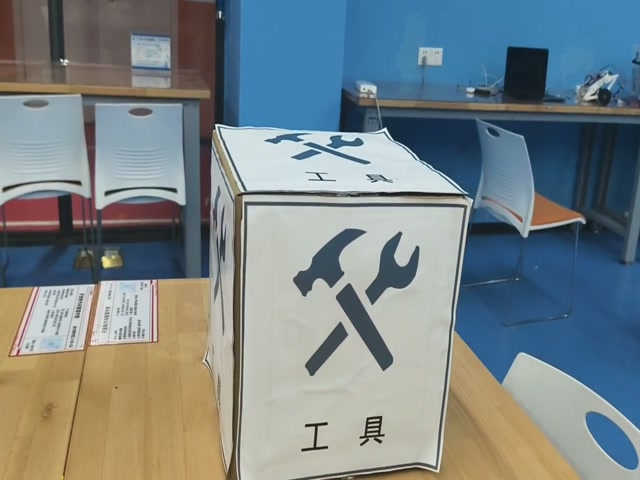Cube_tool: (212, 126, 470, 200)
